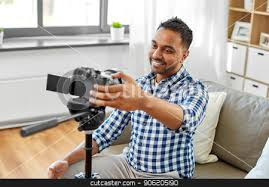Indian_Male: (147, 28, 191, 74)
